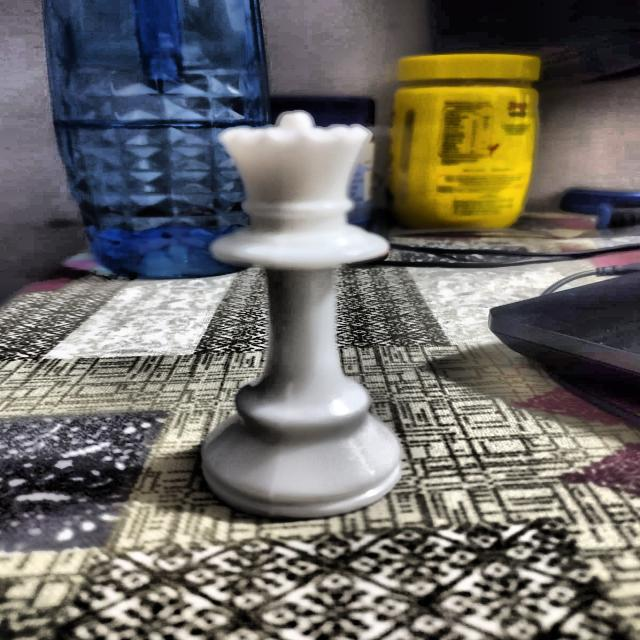WhiteQueen: (191, 109, 409, 518)
